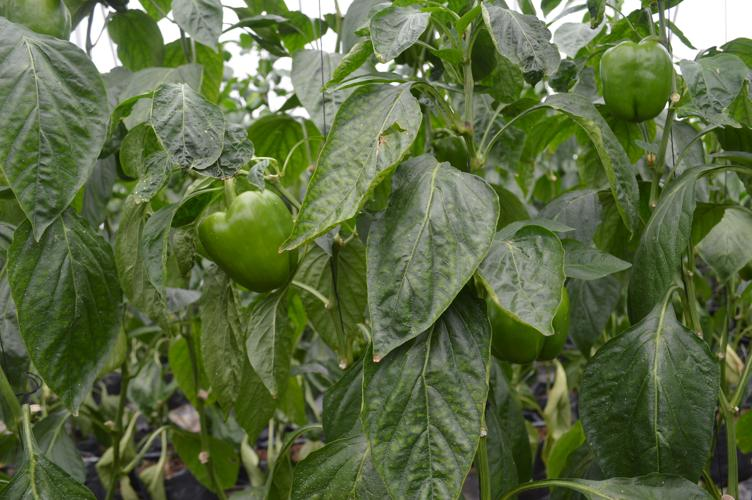BellPepper: (193, 185, 304, 293), (482, 276, 576, 367), (600, 31, 680, 130)
